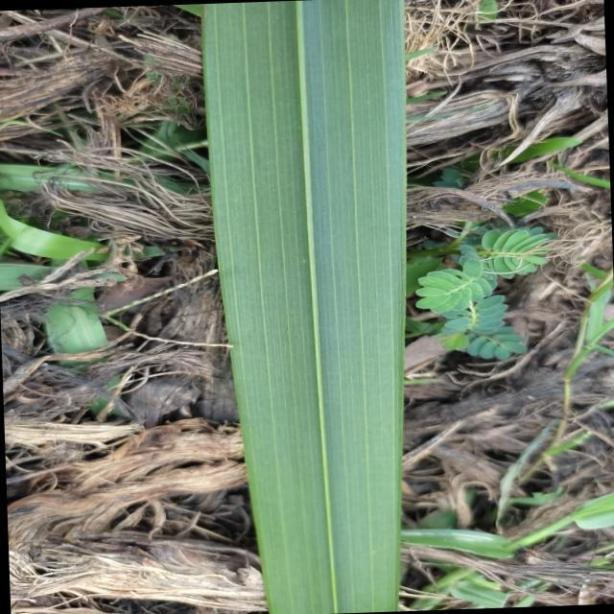Healthy: (201, 0, 408, 614)
